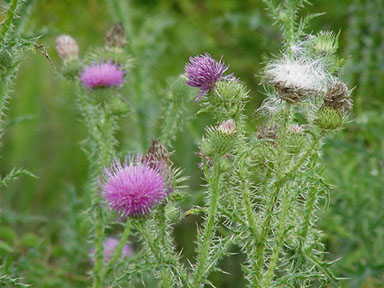bull thistle: (96, 151, 171, 231), (184, 52, 240, 111), (76, 59, 127, 111)
